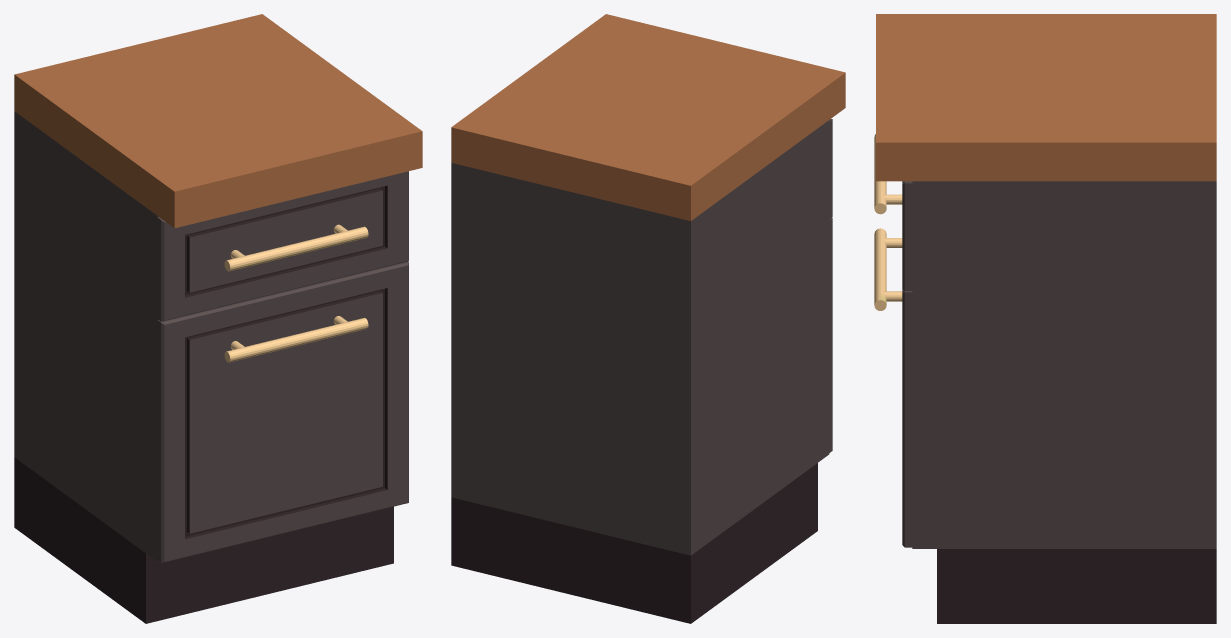
File: Prop_KitchenCabinet_02_H.fbx
3 views of the same model, side by side, from view 1: azimuth 30°, elevation 25°; view 2: azimuth 150°, elevation 25°; view 3: azimuth 270°, elevation 25° (orthographic). The views are drawn at different scales.
Parts seen in each view (by area): view 1: Prop_KitchenCabinet_02_H; view 2: Prop_KitchenCabinet_02_H; view 3: Prop_KitchenCabinet_02_H.
Boxes of the visible parts, x1=… form: Prop_KitchenCabinet_02_H: x1=14, y1=14, x2=422, y2=623; Prop_KitchenCabinet_02_H: x1=451, y1=14, x2=845, y2=623; Prop_KitchenCabinet_02_H: x1=874, y1=14, x2=1216, y2=623.
Bounding box in the file's own units: 60 × 105 × 67.48.
